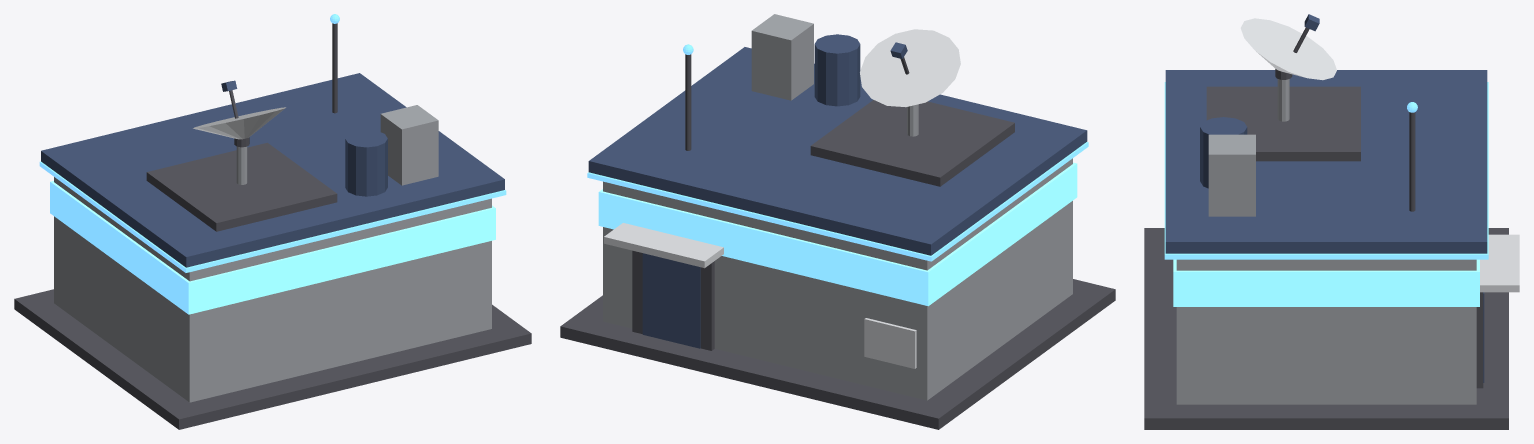
The model's file is us_research_lab.glb.
3 views of the same model, side by side, from view 1: azimuth 30°, elevation 25°; view 2: azimuth 150°, elevation 25°; view 3: azimuth 270°, elevation 25° (orthographic). The views are drawn at different scales.
Parts seen in each view (by area): view 1: Lab, RoofSlab, GlassBand, Pad, Platform, TankA, RoofStrip, TankB, Dish, Mast; view 2: RoofSlab, Lab, Pad, GlassBand, Platform, Dish, Door, TankA, RoofStrip, TankB, Canopy, Entry (+2 smaller); view 3: RoofSlab, Lab, Pad, GlassBand, Platform, TankA, Dish, RoofStrip, Canopy, TankB, Entry, Mast (+1 smaller).
Part boxes in pixels (x1,y1,x2,y2): Lab: [54, 177, 491, 402]; RoofSlab: [41, 73, 504, 267]; GlassBand: [50, 181, 495, 314]; Pad: [14, 289, 531, 429]; Platform: [146, 142, 337, 231]; TankA: [380, 105, 438, 185]; RoofStrip: [39, 161, 506, 272]; TankB: [345, 129, 387, 196]; Dish: [193, 80, 286, 147]; Mast: [332, 23, 337, 113]; RoofSlab: [588, 47, 1087, 255]; Lab: [603, 158, 1072, 400]; Pad: [560, 279, 1115, 429]; GlassBand: [598, 162, 1077, 306]; Platform: [810, 100, 1014, 186]; Dish: [860, 29, 960, 107]; Door: [642, 253, 700, 348]; TankA: [751, 14, 813, 100]; RoofStrip: [587, 142, 1088, 261]; TankB: [814, 34, 860, 106]; Canopy: [604, 223, 723, 268]; Entry: [632, 250, 714, 350]; RoofSlab: [1165, 70, 1487, 253]; Lab: [1176, 259, 1476, 404]; Pad: [1144, 228, 1508, 429]; GlassBand: [1173, 259, 1479, 306]; Platform: [1206, 86, 1360, 161]; TankA: [1208, 134, 1255, 216]; Dish: [1240, 14, 1336, 80]; RoofStrip: [1164, 82, 1488, 259]; Canopy: [1480, 234, 1519, 292]; TankB: [1200, 117, 1247, 188]; Entry: [1476, 292, 1483, 388]; Mast: [1409, 112, 1415, 211].
Size of the model in its own units: 10.5 by 7.49 by 8.75.
